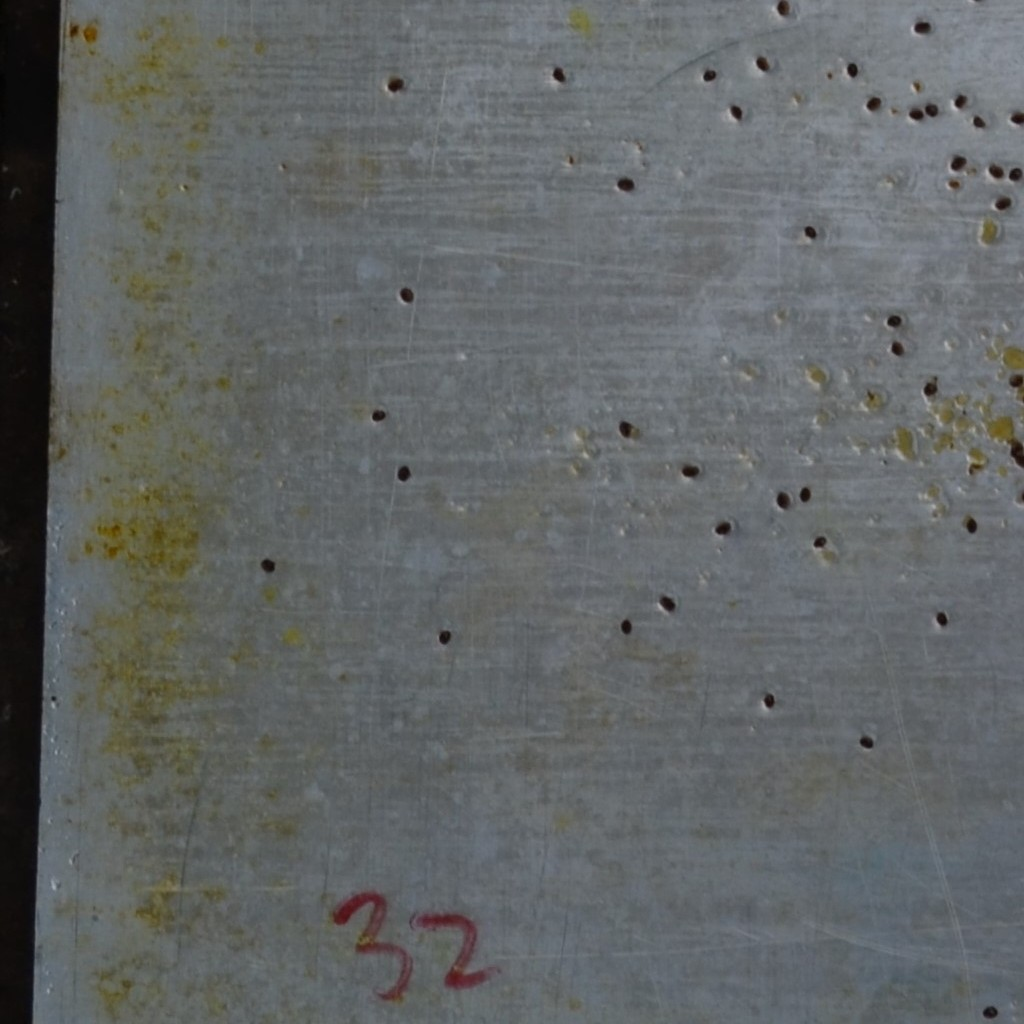varroa: (657, 591, 677, 617), (948, 150, 968, 174), (810, 529, 829, 554), (387, 74, 406, 98), (774, 488, 791, 513), (887, 337, 907, 358), (858, 730, 877, 752), (614, 174, 636, 193), (548, 63, 567, 85), (865, 93, 883, 116), (933, 606, 952, 627), (714, 518, 734, 537), (987, 160, 1004, 182), (398, 281, 415, 303), (371, 403, 387, 426), (884, 310, 903, 329), (259, 556, 277, 576), (994, 195, 1012, 214), (980, 1003, 1000, 1020), (395, 463, 412, 483), (761, 687, 777, 708), (679, 463, 701, 478), (617, 418, 633, 438), (437, 626, 451, 648), (802, 222, 819, 240), (912, 19, 931, 35), (952, 92, 968, 111), (755, 54, 771, 73), (965, 516, 979, 537), (908, 105, 925, 122), (798, 484, 811, 506), (844, 60, 859, 79), (922, 382, 938, 399), (702, 66, 718, 83), (924, 101, 939, 119), (1009, 109, 1023, 128), (730, 102, 743, 122), (971, 112, 987, 128), (618, 617, 632, 635), (1009, 373, 1022, 391), (1012, 449, 1023, 470), (1009, 166, 1023, 182), (775, 1, 790, 15)
